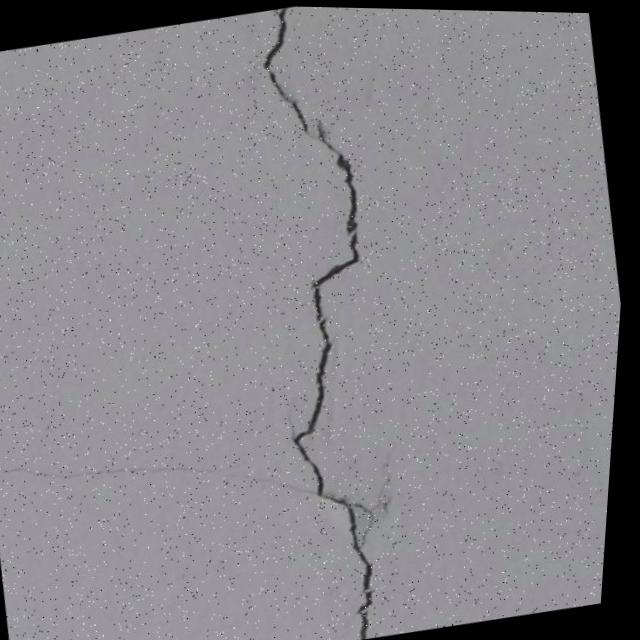Crack: (201, 4, 468, 640), (0, 419, 243, 525)
